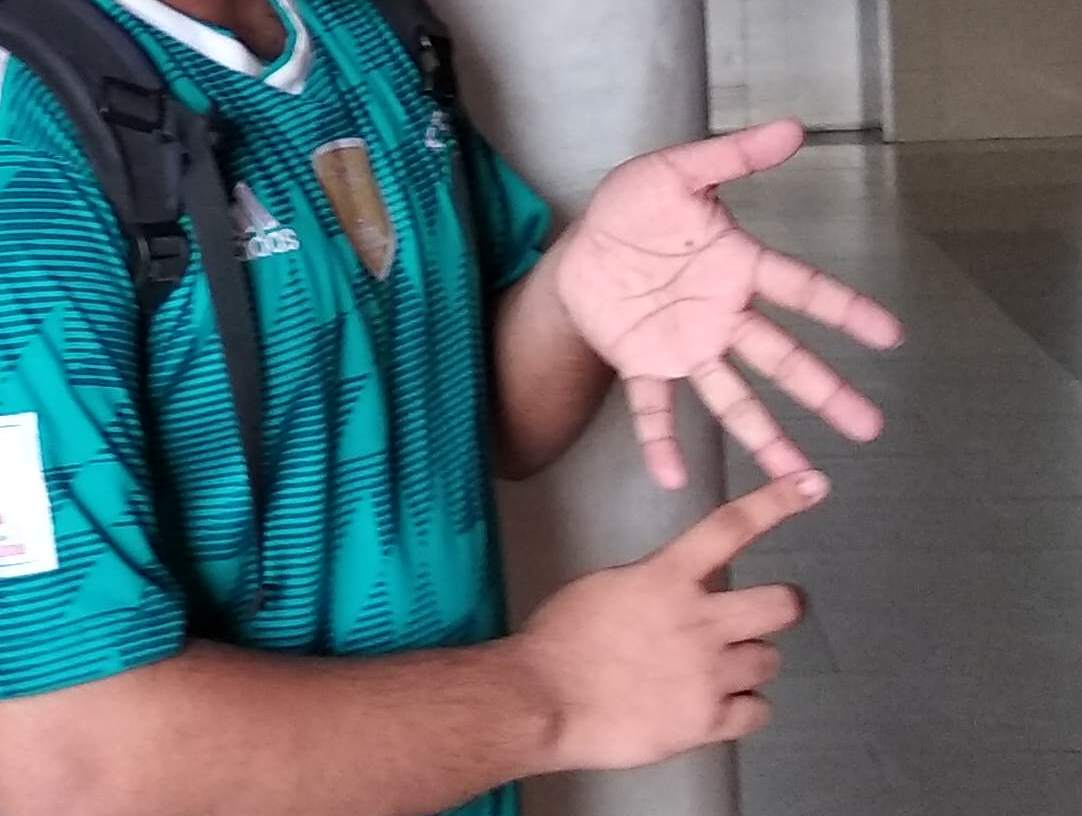e: (591, 229, 902, 666)
